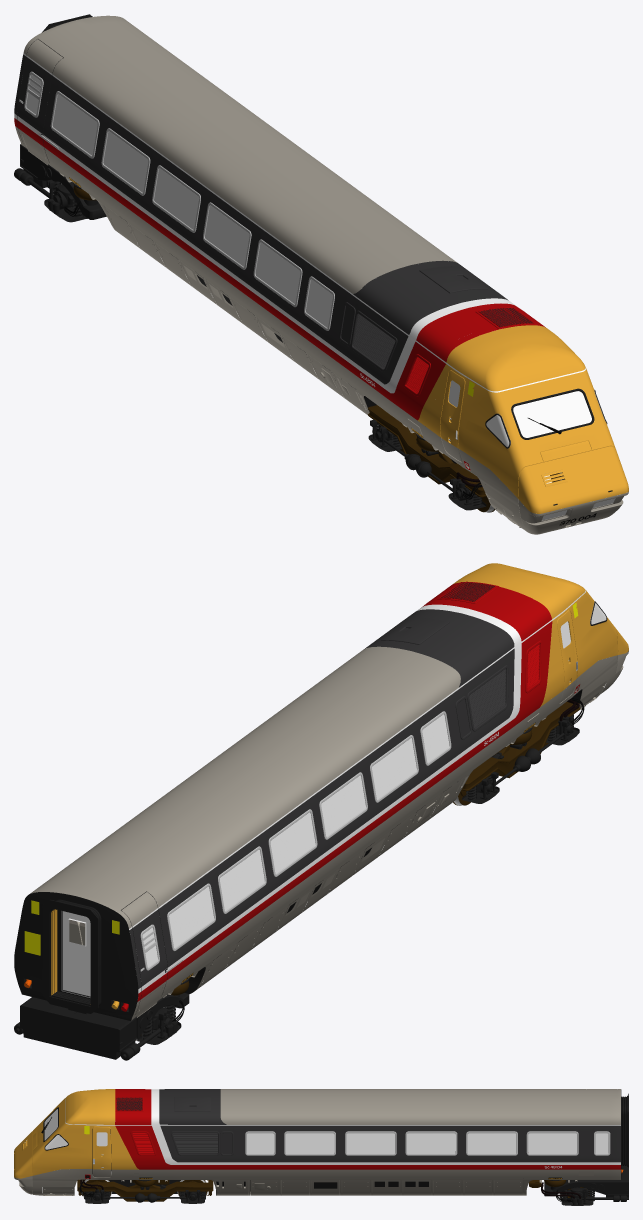
Rendered from apt-wip.glb.
3 renders of one model, top to bottom at view 1: azimuth 30°, elevation 25°; view 2: azimuth 150°, elevation 25°; view 3: azimuth 270°, elevation 25°, orthographic. The views are drawn at different scales.
Visible parts, largest first — view 1: Main Body, Bogie_Front, Botton Panels, Bogie_Back, Side Vents; view 2: Main Body, Bogie_Back, Botton Panels, Bogie_Front, Rear Door Surround, Rear Door, Side Vents; view 3: Main Body, Botton Panels, Bogie_Front, Bogie_Back, Side Vents, Rear Door Surround, Wires and Pipes.001, Mesh Grill Roof, Front Bottom Hatches, Wheels, Black Box.
Boxes of the visible parts, bbox=[...] form: Main Body: bbox=[14, 15, 628, 534]; Bogie_Front: bbox=[368, 405, 564, 510]; Botton Panels: bbox=[104, 205, 367, 414]; Bogie_Back: bbox=[14, 144, 106, 222]; Side Vents: bbox=[353, 313, 428, 392]; Main Body: bbox=[14, 563, 628, 1020]; Bogie_Back: bbox=[14, 978, 189, 1060]; Botton Panels: bbox=[199, 776, 465, 987]; Bogie_Front: bbox=[461, 702, 580, 803]; Rear Door Surround: bbox=[42, 899, 101, 1013]; Rear Door: bbox=[62, 911, 90, 997]; Side Vents: bbox=[469, 644, 539, 727]; Main Body: bbox=[14, 1089, 621, 1195]; Botton Panels: bbox=[220, 1180, 522, 1195]; Bogie_Front: bbox=[77, 1179, 213, 1203]; Bogie_Back: bbox=[544, 1165, 628, 1205]; Side Vents: bbox=[132, 1133, 217, 1153]; Rear Door Surround: bbox=[621, 1093, 628, 1167]; Wires and Pipes.001: bbox=[79, 1179, 580, 1202]; Mesh Grill Roof: bbox=[116, 1097, 142, 1110]; Front Bottom Hatches: bbox=[43, 1187, 74, 1195]; Wheels: bbox=[82, 1179, 207, 1196]; Black Box: bbox=[109, 1180, 180, 1193].
Size of the model in its own units: 3.13 by 3.85 by 21.88.
31 materials, 2 textured.
